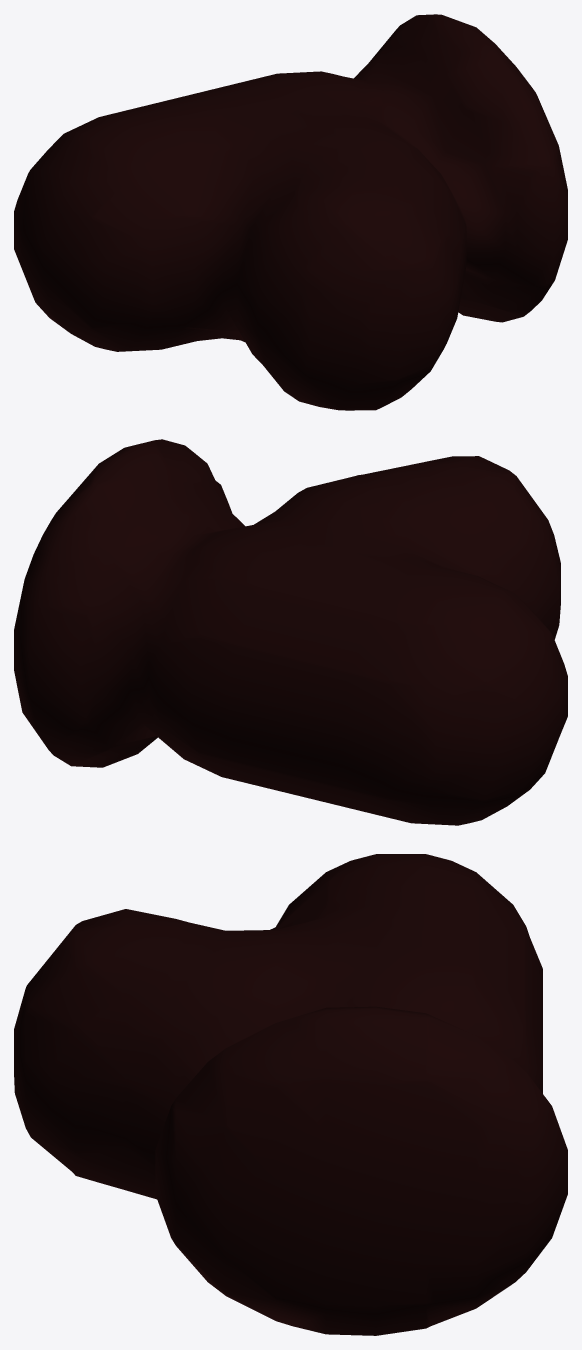
File: hands.fbx
The picture shows the model from 3 angles, top to bottom: view 1: azimuth 30°, elevation 25°; view 2: azimuth 150°, elevation 25°; view 3: azimuth 270°, elevation 25°; orthographic projection. The views are drawn at different scales.
Visible parts, largest first — view 1: Mball; view 2: Mball; view 3: Mball.
Part boxes in pixels (left/top/right/bottom): Mball: left=14, top=14, right=567, bottom=410; Mball: left=14, top=439, right=567, bottom=825; Mball: left=14, top=854, right=567, bottom=1335.
Size of the model in its own units: 523 by 296 by 456.
